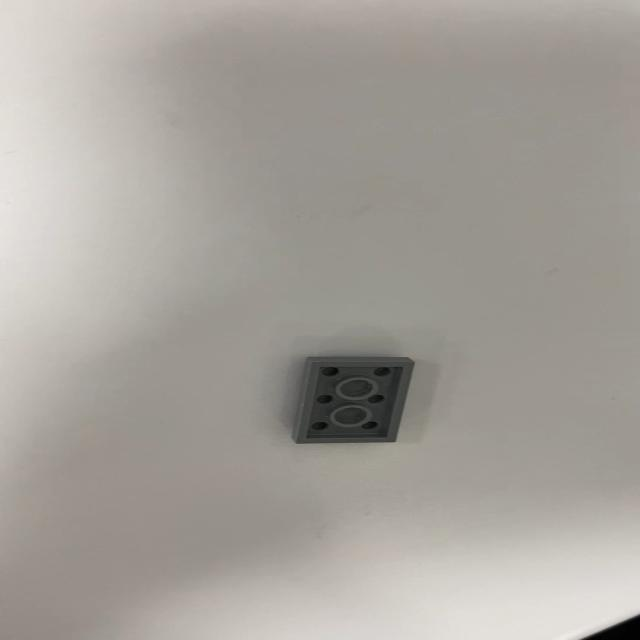C3x2x0: (290, 356, 415, 444)
